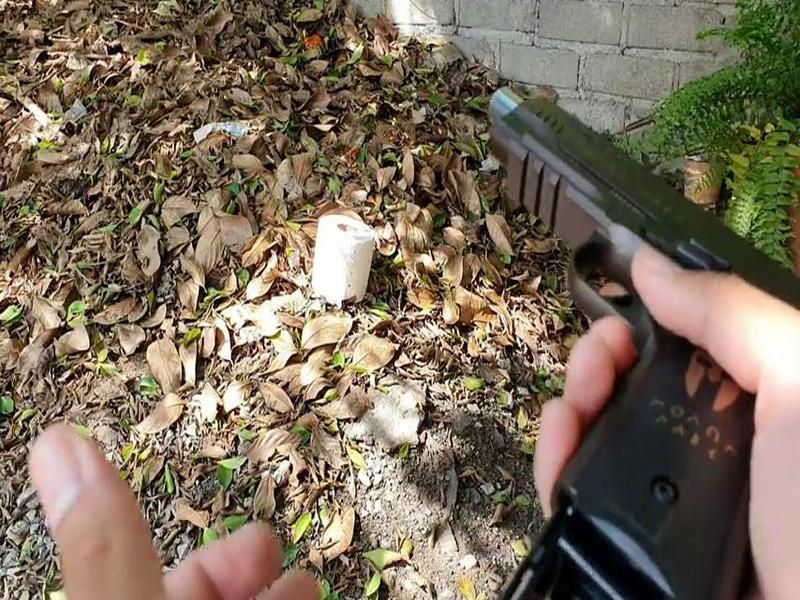Pistola: (408, 59, 800, 553)
